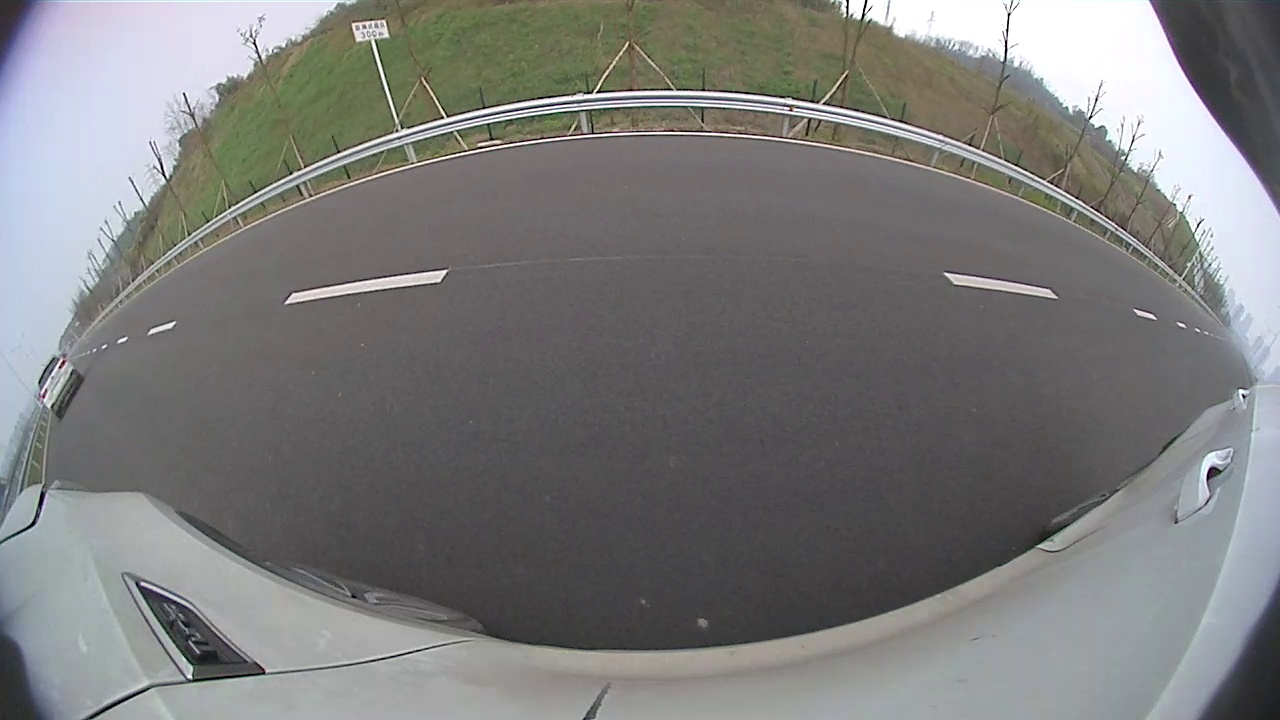car: (694, 138, 783, 205)
rear: (701, 177, 713, 204)
